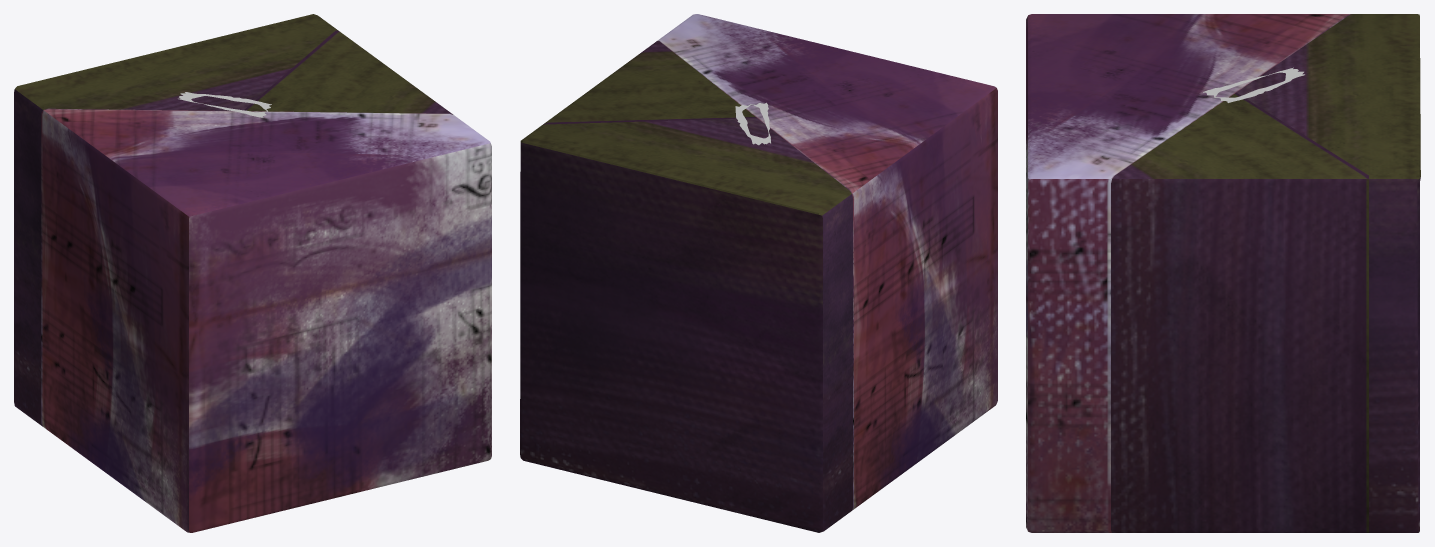
The model's file is MANOR_GROUND_1_003.obj.
3 views of the same model, side by side, from view 1: azimuth 30°, elevation 25°; view 2: azimuth 150°, elevation 25°; view 3: azimuth 270°, elevation 25° (orthographic). The views are drawn at different scales.
Parts seen in each view (by area): view 1: MANOR_GROUND_1_003; view 2: MANOR_GROUND_1_003; view 3: MANOR_GROUND_1_003.
Boxes of the visible parts, bbox=[...] form: MANOR_GROUND_1_003: bbox=[14, 14, 491, 532]; MANOR_GROUND_1_003: bbox=[520, 14, 997, 532]; MANOR_GROUND_1_003: bbox=[1026, 14, 1420, 532].
Size of the model in its own units: 1 by 1.01 by 1.
